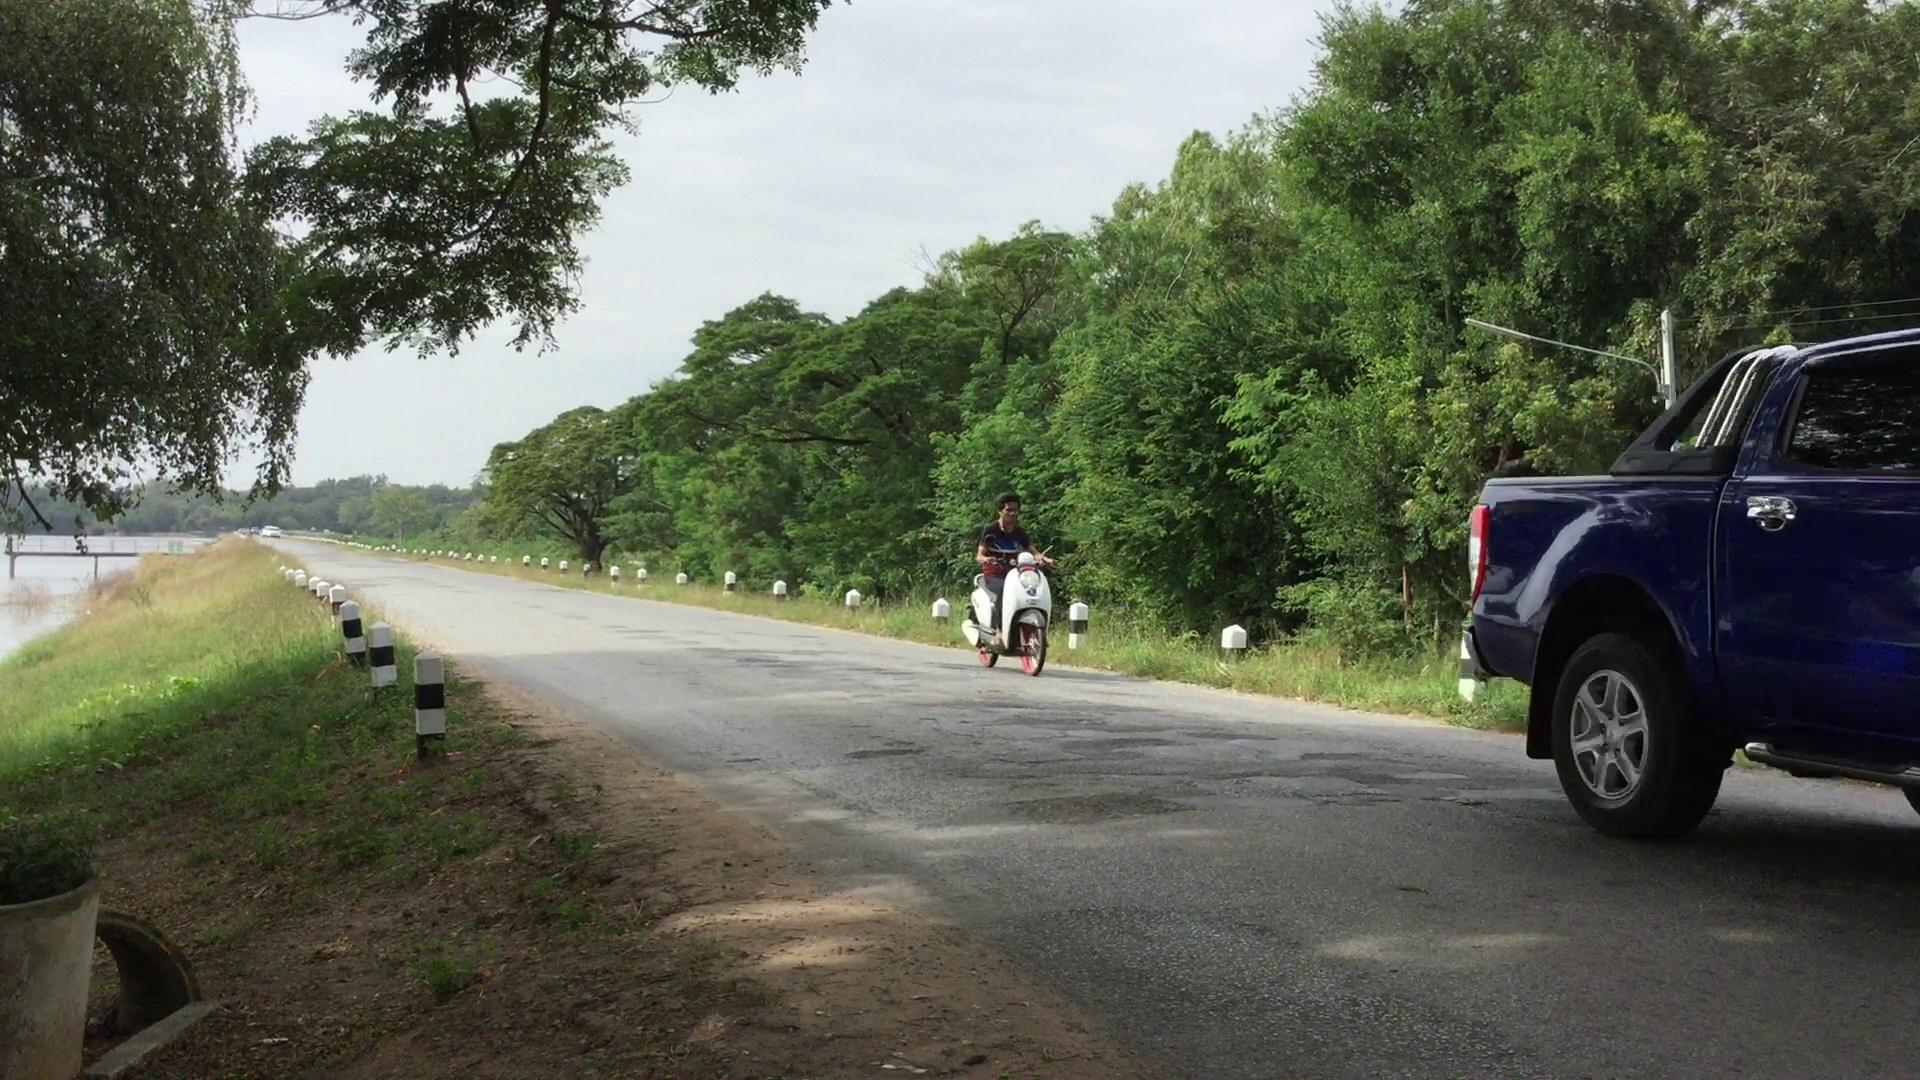car: (1464, 333, 1920, 818)
person: (965, 496, 1054, 671)
